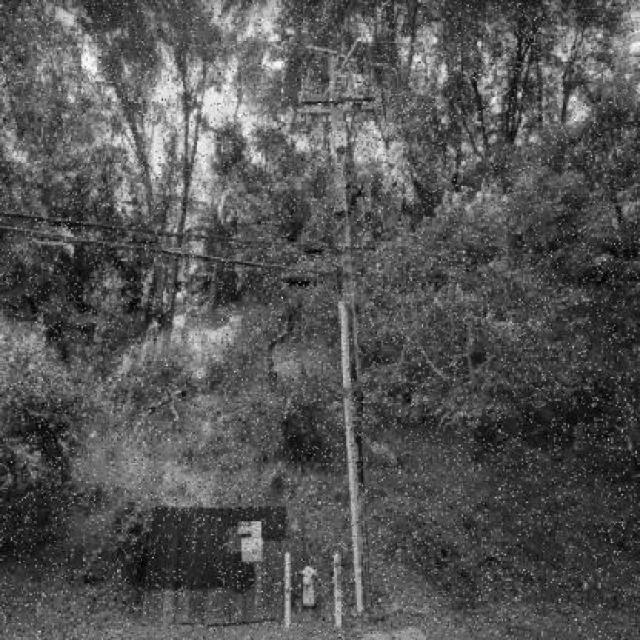pole: (292, 27, 410, 630)
